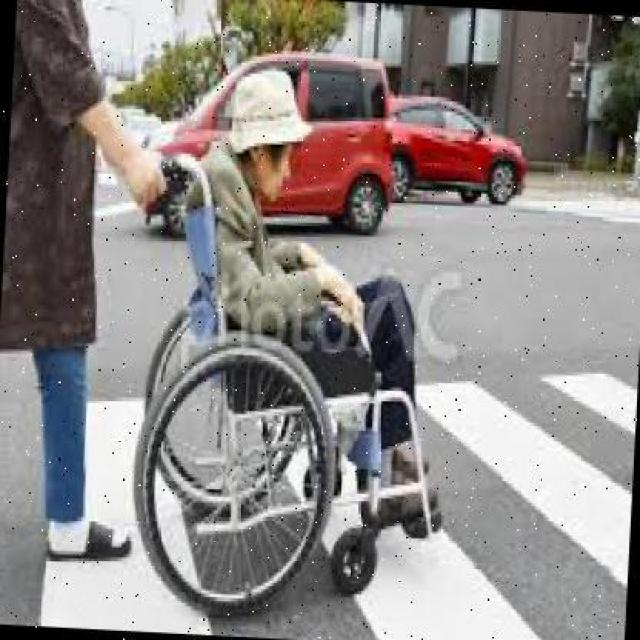Person: (125, 66, 457, 629)
